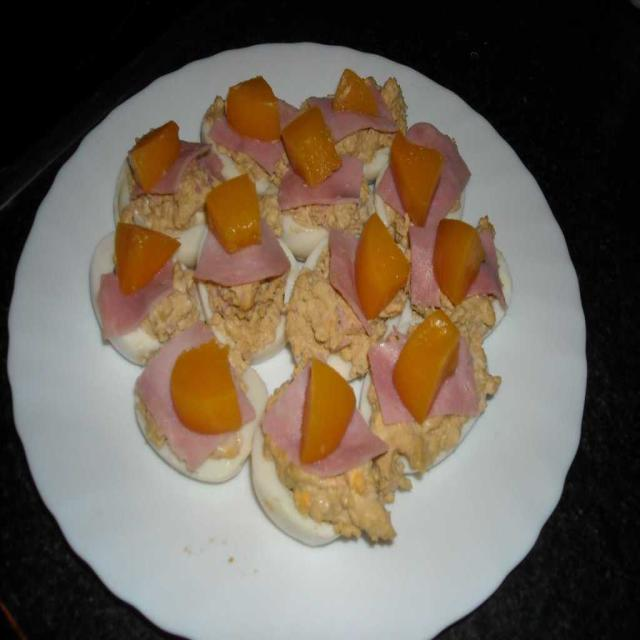Egg: (89, 96, 513, 548)
